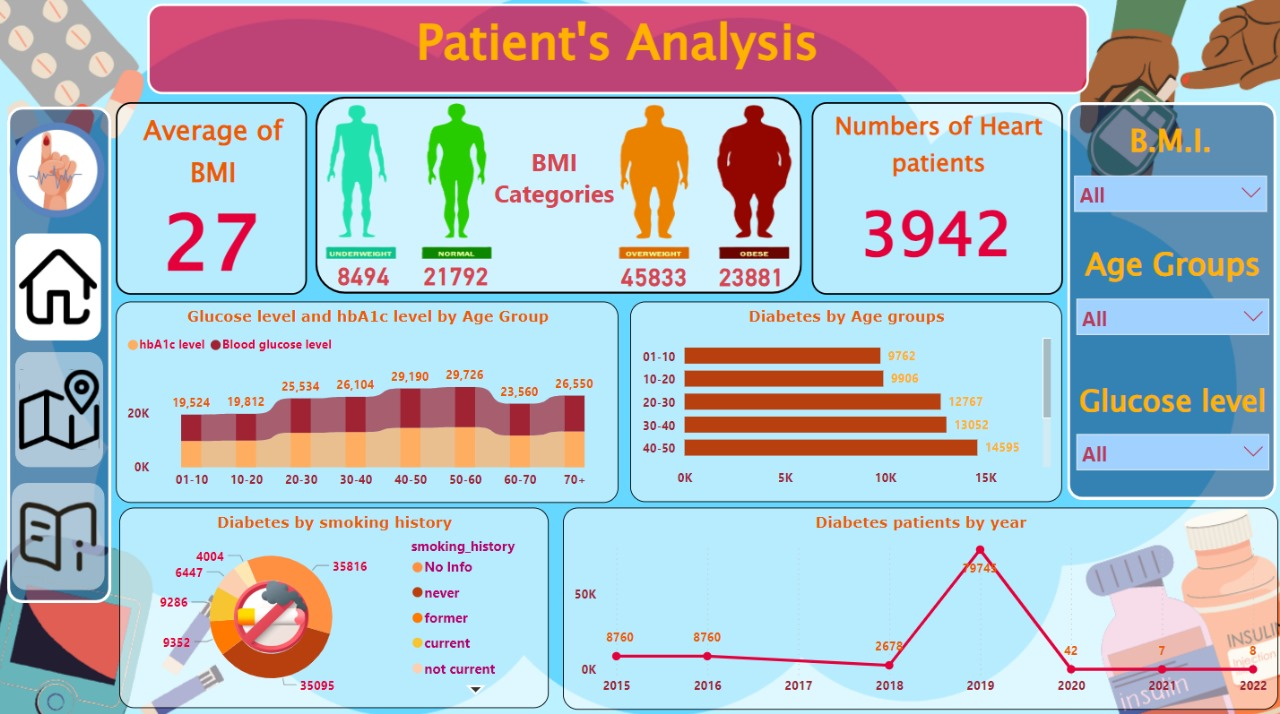

Layout of this report page (visuals, bound fields, positions):
{"tool":"powerbi","page":{"name":"Patients analysis","canvas":[1280,720],"ordinal":0},"visuals":[{"type":"group","id":"g1","title":"Group 3","box":[1061.6,107,214,395.3],"z":0},{"type":"shape","box":[1065.5,107,208.6,396.6],"z":0,"group":"g1"},{"type":"shape","box":[8.8,111.1,103.8,495],"z":0,"group":"g4"},{"type":"group","id":"g2","title":"Group 4","box":[478.3,145.2,152.4,91.3],"z":0,"group":"g7"},{"type":"cardVisual","fields":{"Data":["Measures Table.No. of underweight patients","Measures Table.No. of Healthy weight patients"]},"box":[315.3,252.3,186.2,45.3],"z":0,"group":"g8"},{"type":"textbox","box":[148.8,9.3,938.4,90.7],"z":1000},{"type":"image","box":[307,90.7,503.5,177.9],"z":1000,"group":"g7"},{"type":"slicer","title":"B.M.I.","fields":{"Values":["PROJECT.BMI categories"]},"box":[1061.6,122.1,212.7,109.8],"z":1000,"group":"g3"},{"type":"actionButton","box":[17,237.5,86,107],"z":1000,"group":"g4"},{"type":"cardVisual","fields":{"Data":["Measures Table.No. of Overweight patients","Measures Table.No. of Obese patients"]},"box":[602,253.5,197.7,45.3],"z":1000,"group":"g8"},{"type":"card","title":"Average of BMI","fields":{"Values":["Avg(PROJECT.bmi)"]},"box":[117.4,107,190.7,191.9],"z":2000},{"type":"group","id":"g3","title":"Group 2","box":[1061.6,122.1,214.1,369.1],"z":2000,"group":"g1"},{"type":"slicer","title":"Age Groups","fields":{"Values":["PROJECT.age group"]},"box":[1063.4,244.5,212.7,109.8],"z":2000,"group":"g3"},{"type":"ribbonChart","title":"Glucose level and hbA1c level by Age Group","fields":{"Y":["CountNonNull(PROJECT.hbA1c_level)","CountNonNull(PROJECT.blood_glucose_level)"],"Category":["PROJECT.age group"]},"box":[117.4,305.8,501.2,201.2],"z":3000},{"type":"actionButton","box":[16.5,356.2,87.8,115.3],"z":3000,"group":"g4"},{"type":"slicer","title":"Glucose level","fields":{"Values":["PROJECT.blood_glucose_level"]},"box":[1063.4,381.8,212.7,109.8],"z":3000,"group":"g3"},{"type":"lineChart","title":"Diabetes patients by year","fields":{"Category":["PROJECT.year"],"Y":["CountNonNull(PROJECT.diabetes)"]},"box":[562.5,511.2,712.5,201.2],"z":4000},{"type":"barChart","title":"Diabetes by Age groups","fields":{"Category":["PROJECT.age group"],"Y":["CountNonNull(PROJECT.diabetes)"]},"box":[630.2,305.8,430.2,200],"z":5000},{"type":"actionButton","box":[13.6,485.8,92.8,107],"z":5000,"group":"g4"},{"type":"group","id":"g4","title":"Group 7","box":[0,111.1,128.9,494.4],"z":6000},{"type":"image","box":[0,111.1,128.8,127.5],"z":6000,"group":"g4"},{"type":"group","id":"g5","title":"Group 9","box":[307,90.7,503.5,208.1],"z":7000},{"type":"group","id":"g6","title":"Group 1","box":[120.8,511.8,428.1,200.3],"z":8000},{"type":"donutChart","title":"Diabetes by smoking history","fields":{"Category":["PROJECT.smoking_history"],"Y":["CountNonNull(PROJECT.diabetes)"]},"box":[120.8,511.8,428.1,200.3],"z":8000,"group":"g6"},{"type":"card","title":"Numbers of Heart patients ","fields":{"Values":["Measures Table.Heart patients"]},"box":[810.5,107,250,191.9],"z":9000},{"type":"shape","box":[316.2,102.3,485.1,196.5],"z":10000,"group":"g5"},{"type":"image","box":[230,580,84,82],"z":10502,"group":"g6"},{"type":"textbox","box":[478.3,145.2,152.4,91.3],"z":11001,"group":"g2"},{"type":"group","id":"g7","title":"Group 8","box":[307,90.7,503.5,177.9],"z":12504,"group":"g5"},{"type":"group","id":"g8","title":"Group 10","box":[315.3,252.3,484.4,46.5],"z":13008,"group":"g5"}]}

Visuals, with their boxes in screenshot pixels (x1, y1, x2, y2), scaled from the page's 1280x720 canvas onto the 1280x714 screenshot:
"Group 3" group: crop(1062, 106, 1276, 498)
shape: crop(1066, 106, 1274, 499)
shape: crop(9, 110, 113, 601)
"Group 4" group: crop(478, 144, 631, 235)
cardVisual - Measures Table.No. of underweight patients x Measures Table.No. of Healthy weight patients: crop(315, 250, 502, 295)
textbox: crop(149, 9, 1087, 99)
image: crop(307, 90, 810, 266)
"B.M.I." slicer: crop(1062, 121, 1274, 230)
actionButton: crop(17, 236, 103, 342)
cardVisual - Measures Table.No. of Overweight patients x Measures Table.No. of Obese patients: crop(602, 251, 800, 296)
"Average of BMI" card: crop(117, 106, 308, 296)
"Group 2" group: crop(1062, 121, 1276, 487)
"Age Groups" slicer: crop(1063, 242, 1276, 351)
"Glucose level and hbA1c level by Age Group" ribbonChart: crop(117, 303, 619, 503)
actionButton: crop(16, 353, 104, 468)
"Glucose level" slicer: crop(1063, 379, 1276, 488)
"Diabetes patients by year" lineChart: crop(562, 507, 1275, 706)
"Diabetes by Age groups" barChart: crop(630, 303, 1060, 502)
actionButton: crop(14, 482, 106, 588)
"Group 7" group: crop(0, 110, 129, 600)
image: crop(0, 110, 129, 237)
"Group 9" group: crop(307, 90, 810, 296)
"Group 1" group: crop(121, 508, 549, 706)
"Diabetes by smoking history" donutChart: crop(121, 508, 549, 706)
"Numbers of Heart patients " card: crop(810, 106, 1060, 296)
shape: crop(316, 101, 801, 296)
image: crop(230, 575, 314, 656)
textbox: crop(478, 144, 631, 235)
"Group 8" group: crop(307, 90, 810, 266)
"Group 10" group: crop(315, 250, 800, 296)
